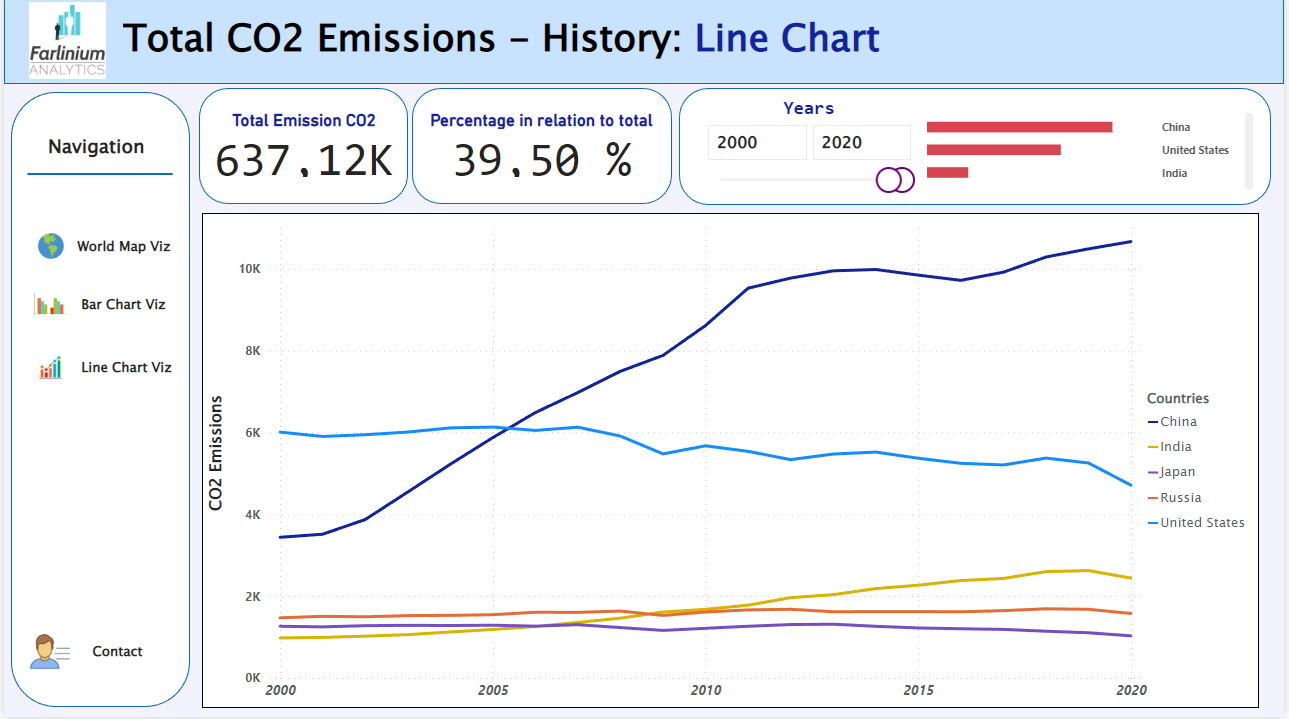

The page's visual inventory and layout, read from the dashboard file:
{"tool":"powerbi","page":{"name":"Line Chart","canvas":[1280,720],"ordinal":2},"visuals":[{"type":"shape","box":[0,0,1280,87],"z":0},{"type":"image","box":[0,0,126,87],"z":1000},{"type":"shape","box":[195.3,91.2,208.8,115.9],"z":2000},{"type":"textbox","box":[114,8,1153,79],"z":3000},{"type":"shape","box":[408.2,91.2,260,115.9],"z":4000},{"type":"card","title":"Total Emission CO2","fields":{"Values":["Sum(countries_co2_history (2).co2)"]},"box":[202.7,112.7,194.5,72.7],"z":5000},{"type":"card","title":"Percentage in relation to total","fields":{"Values":["countries_co2_history (2).percentage_co2"]},"box":[412,113,251,72],"z":6000},{"type":"shape","box":[675,91,592,117],"z":7000},{"type":"group","id":"g1","title":"Group 1","box":[690.9,95.5,227.3,110],"z":8000},{"type":"clusteredBarChart","fields":{"Category":["countries_co2_history (2).country"],"Y":["Sum(countries_co2_history (2).co2)"]},"box":[917.9,101.4,336.4,96.4],"z":9000},{"type":"slicer","fields":{"Values":["Calendar.Date.Variation.Date Hierarchy.Year"]},"box":[690.9,118.5,227.9,87.7],"z":9000,"group":"g1"},{"type":"shape","box":[7,95,179,615],"z":10000},{"type":"textbox","box":[763.9,95.5,81.9,47],"z":11000,"group":"g1"},{"type":"textbox","box":[62.7,233.6,114.5,30.9],"z":11000},{"type":"image","box":[27.7,230.8,37.7,36.2],"z":12000},{"type":"textbox","box":[38.9,131.3,114.8,46.7],"z":13000},{"type":"image","box":[18.6,341.4,55.7,57.6],"z":14000},{"type":"textbox","box":[61.9,291.9,115,31.2],"z":15000},{"type":"textbox","box":[65.2,354.8,115.2,32.4],"z":16000},{"type":"image","box":[21.9,273.1,49.4,68.1],"z":17000},{"type":"shape","box":[22.7,155.5,146.4,43.6],"z":18000},{"type":"lineChart","fields":{"Category":["Calendar.Date.Variation.Date Hierarchy.Year"],"Y":["Sum(countries_co2_history (2).co2)"],"Series":["countries_co2_history (2).country"]},"box":[198.2,216.4,1056.4,494.5],"z":19000},{"type":"image","box":[20,629,52,52],"z":19001},{"type":"textbox","box":[56,639,115,32],"z":19002}]}

Visuals, with their boxes in screenshot pixels (x1, y1, x2, y2), scaled from the page's 1280x720 canvas onto the 1289x719 screenshot:
shape: pyautogui.locateOnScreen(0, 0, 1288, 87)
image: pyautogui.locateOnScreen(0, 0, 127, 87)
shape: pyautogui.locateOnScreen(197, 91, 407, 207)
textbox: pyautogui.locateOnScreen(115, 8, 1276, 87)
shape: pyautogui.locateOnScreen(411, 91, 673, 207)
"Total Emission CO2" card: pyautogui.locateOnScreen(204, 113, 400, 185)
"Percentage in relation to total" card: pyautogui.locateOnScreen(415, 113, 668, 185)
shape: pyautogui.locateOnScreen(680, 91, 1276, 208)
"Group 1" group: pyautogui.locateOnScreen(696, 95, 925, 205)
clusteredBarChart - countries_co2_history (2).country x Sum(countries_co2_history (2).co2): pyautogui.locateOnScreen(924, 101, 1263, 198)
slicer - Calendar.Date.Variation.Date Hierarchy.Year: pyautogui.locateOnScreen(696, 118, 925, 206)
shape: pyautogui.locateOnScreen(7, 95, 187, 709)
textbox: pyautogui.locateOnScreen(769, 95, 852, 142)
textbox: pyautogui.locateOnScreen(63, 233, 178, 264)
image: pyautogui.locateOnScreen(28, 230, 66, 267)
textbox: pyautogui.locateOnScreen(39, 131, 155, 178)
image: pyautogui.locateOnScreen(19, 341, 75, 398)
textbox: pyautogui.locateOnScreen(62, 291, 178, 323)
textbox: pyautogui.locateOnScreen(66, 354, 182, 387)
image: pyautogui.locateOnScreen(22, 273, 72, 341)
shape: pyautogui.locateOnScreen(23, 155, 170, 199)
lineChart - Calendar.Date.Variation.Date Hierarchy.Year x Sum(countries_co2_history (2).co2): pyautogui.locateOnScreen(200, 216, 1263, 710)
image: pyautogui.locateOnScreen(20, 628, 73, 680)
textbox: pyautogui.locateOnScreen(56, 638, 172, 670)
